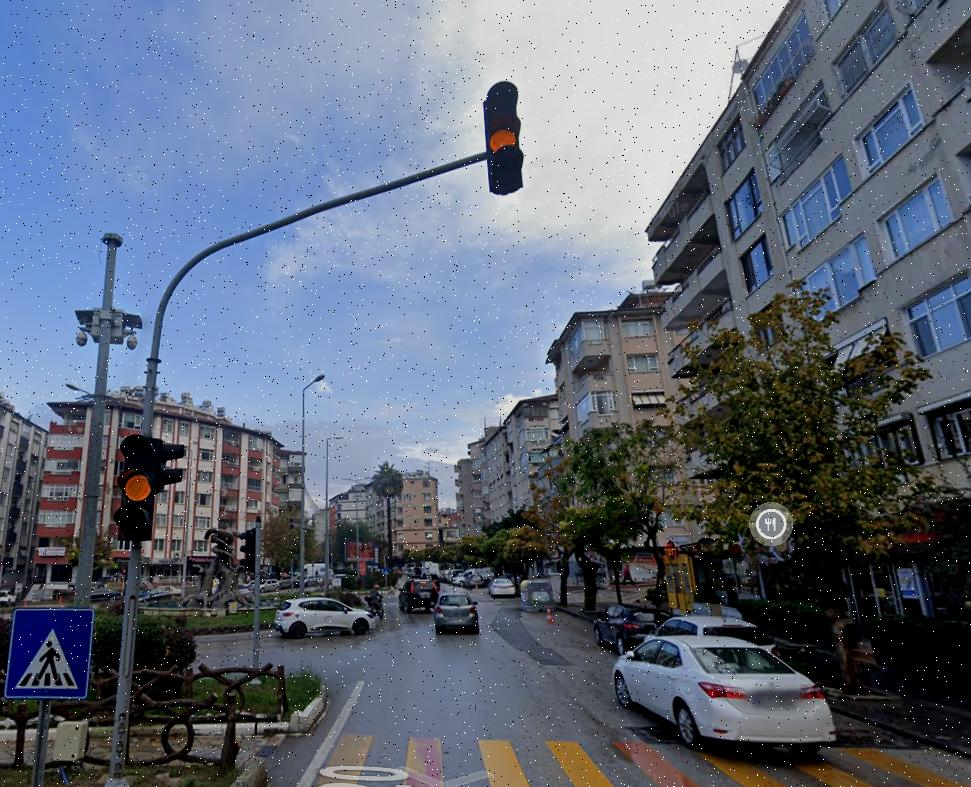yellowlight: (485, 83, 524, 190), (121, 432, 160, 538)
